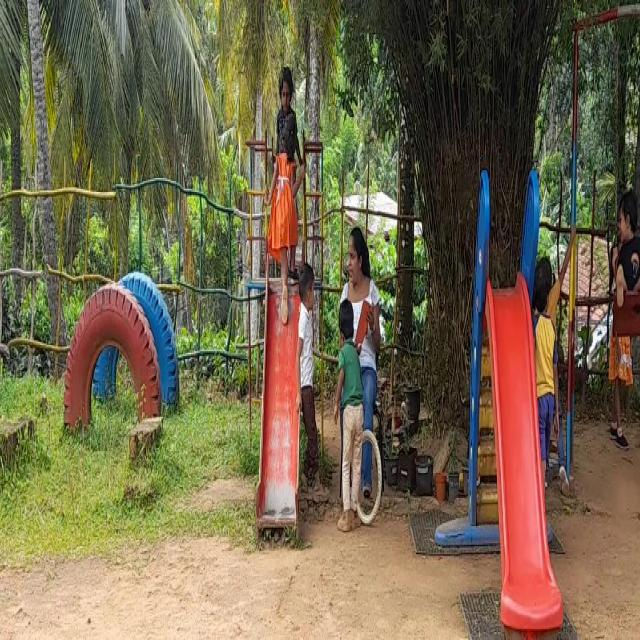adult: (348, 222, 385, 490)
child: (334, 301, 363, 524), (298, 259, 320, 509), (535, 259, 554, 487), (274, 118, 295, 318), (611, 188, 640, 316)
